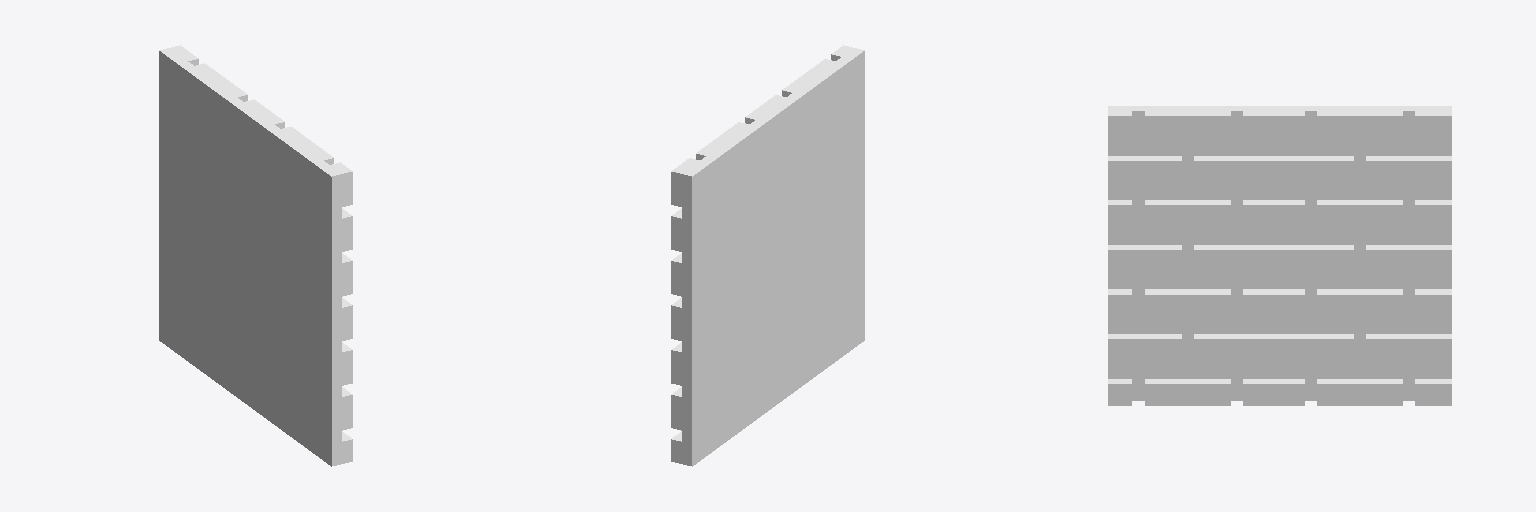
File: Stenka1-13.obj
3 renders of one model, left to right at view 1: azimuth 30°, elevation 25°; view 2: azimuth 150°, elevation 25°; view 3: azimuth 270°, elevation 25°, orthographic.
Visible parts, largest first — view 1: object 1; view 2: object 1; view 3: object 1.
Part boxes in pixels (left/top/right/bottom): object 1: left=159, top=45, right=352, bottom=466; object 1: left=671, top=45, right=864, bottom=466; object 1: left=1108, top=106, right=1451, bottom=405.
Bounding box in the file's own units: 0.2 × 2.6 × 2.8.